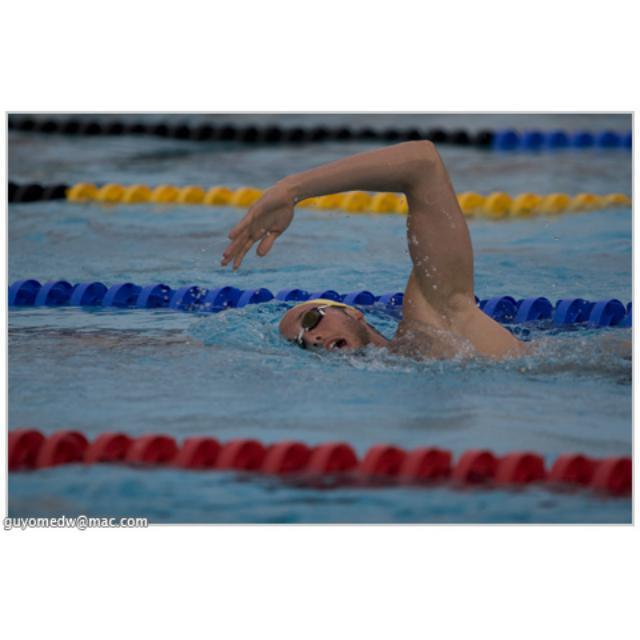human: (221, 143, 537, 368)
